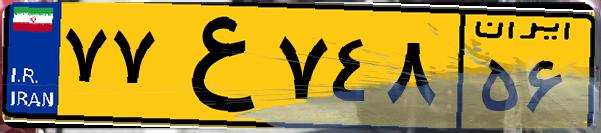4: (330, 28, 385, 110)
5: (475, 38, 525, 113)
6: (525, 38, 570, 115)
7: (270, 28, 330, 110), (57, 26, 110, 100), (110, 28, 158, 98)
8: (385, 28, 445, 110)
ع: (158, 12, 270, 120)
